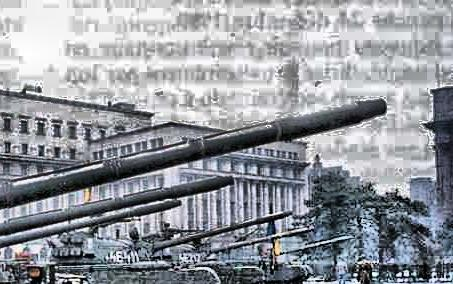tanks: (1, 143, 230, 208), (53, 231, 221, 284), (192, 213, 294, 240), (1, 270, 12, 284), (26, 283, 56, 284)
